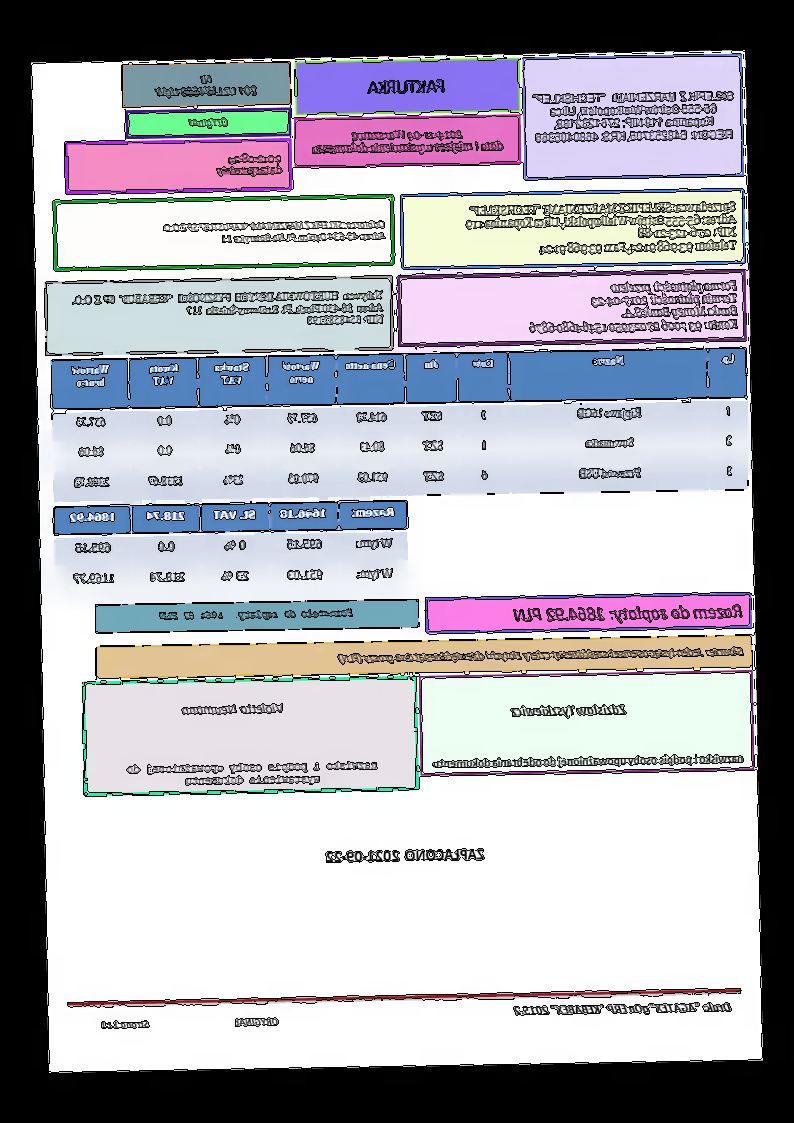Table: (50, 345, 751, 503), (53, 500, 411, 599)
TextBox: (463, 196, 740, 259), (71, 288, 388, 334), (525, 276, 741, 337), (532, 87, 738, 146), (336, 643, 747, 667), (121, 757, 381, 789), (162, 215, 389, 246), (430, 749, 748, 771), (512, 601, 747, 628), (309, 126, 506, 158), (510, 997, 735, 1020), (151, 69, 261, 102), (97, 1013, 284, 1032), (322, 845, 488, 866), (157, 605, 358, 622), (509, 698, 628, 720), (214, 150, 287, 181), (182, 699, 287, 719), (364, 77, 447, 98), (186, 115, 231, 131)
